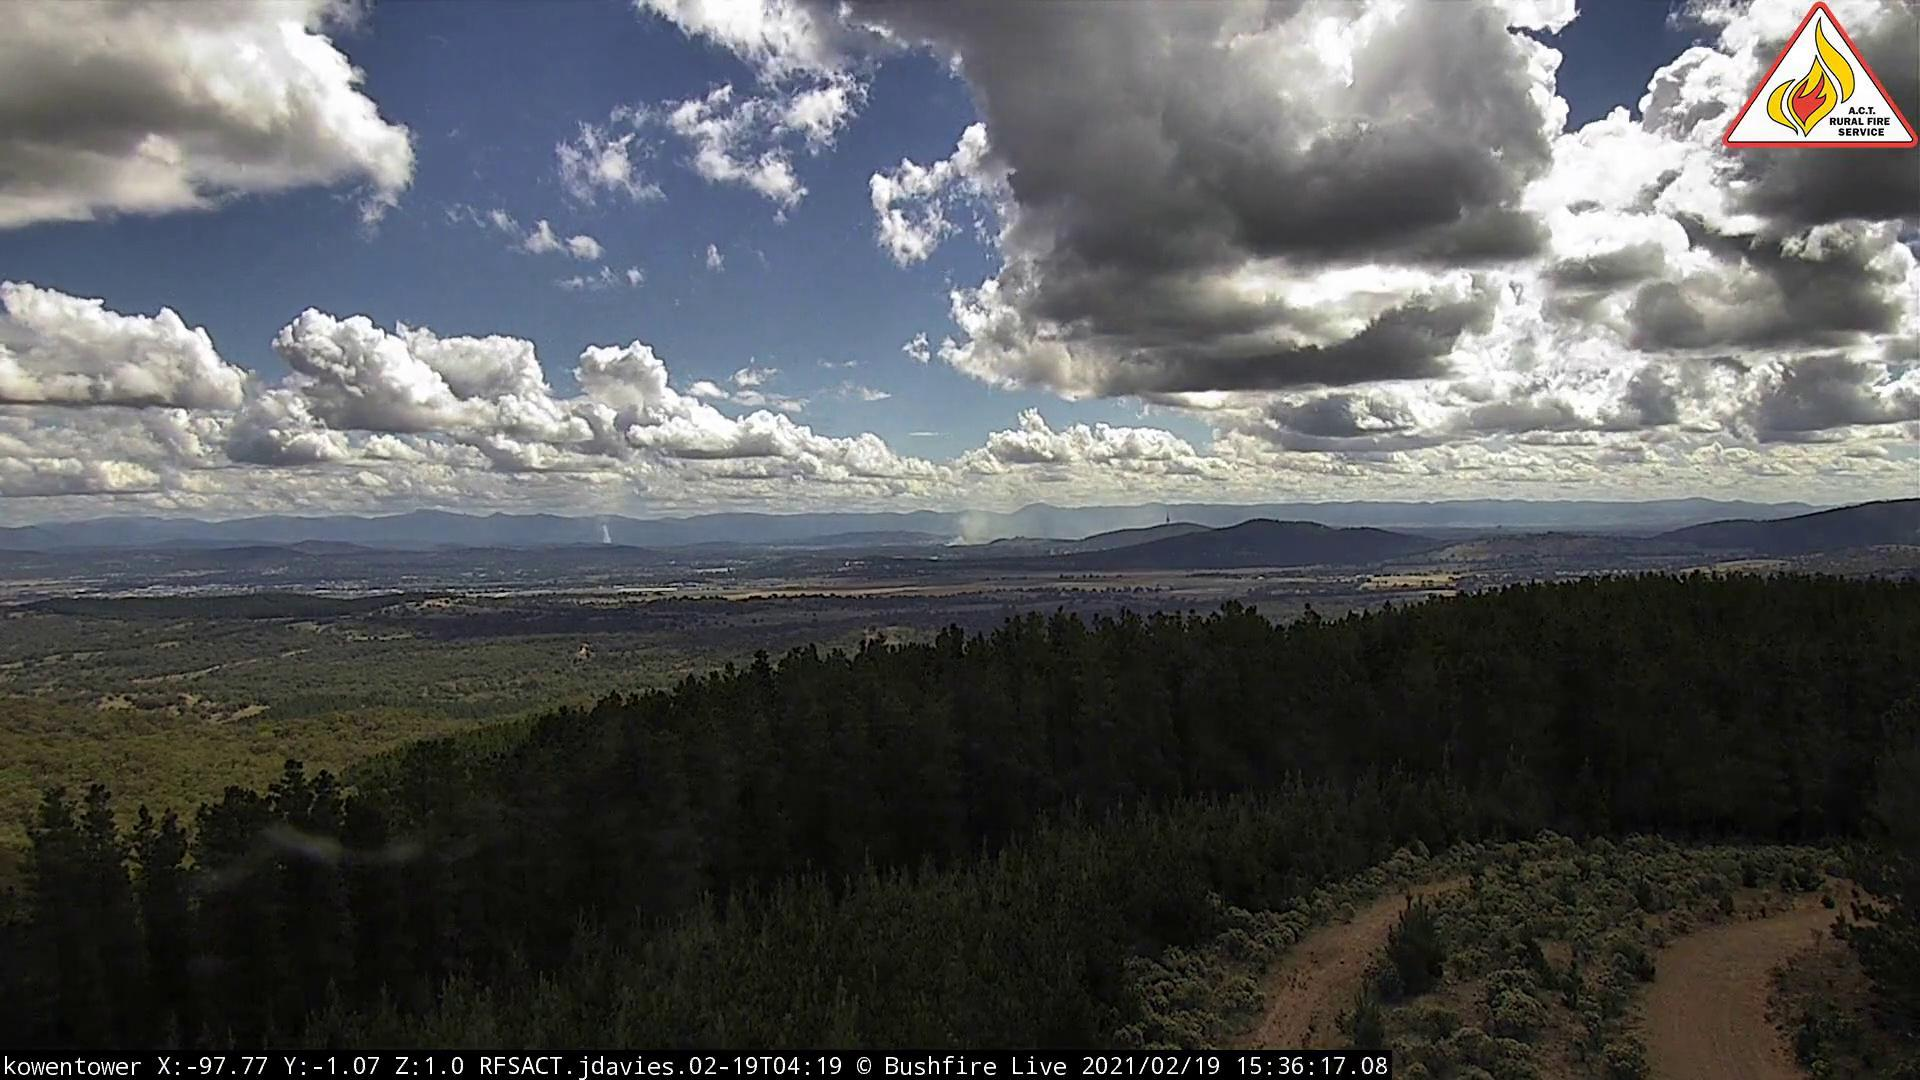Smoke: (942, 495, 1054, 551), (603, 525, 620, 553)
